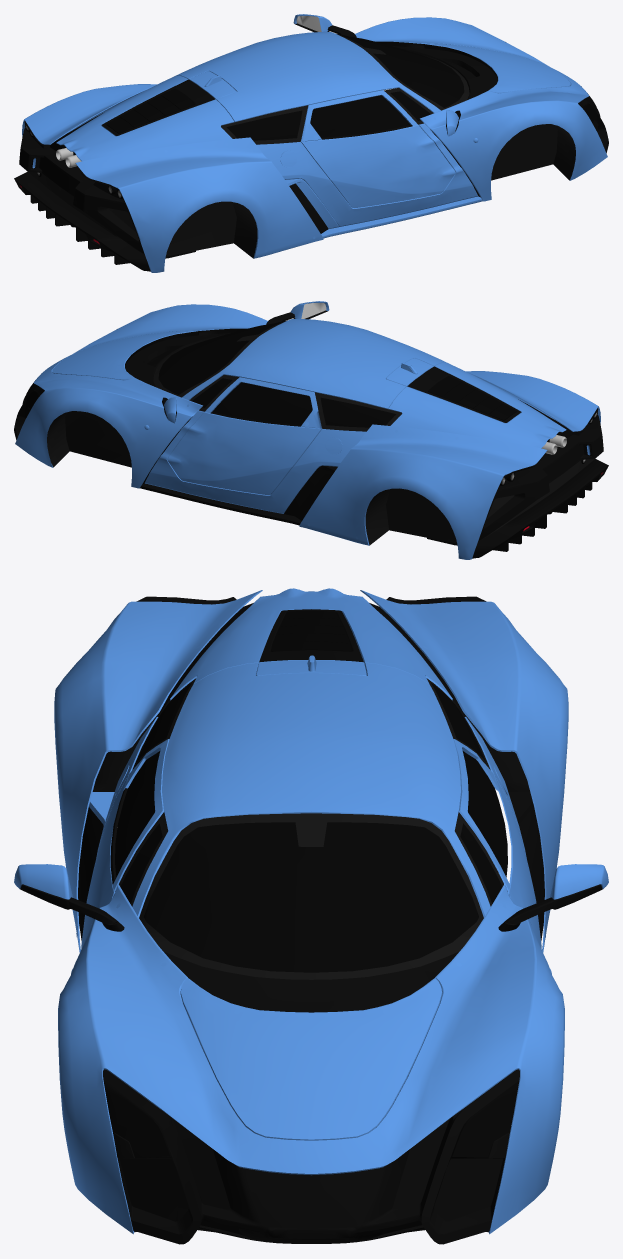
File: MarussiaBody.gltf
3 views of the same model, one above another, from view 1: azimuth 30°, elevation 25°; view 2: azimuth 150°, elevation 25°; view 3: azimuth 270°, elevation 25° (orthographic). The views are drawn at different scales.
Visible parts, largest first — view 1: object.002; view 2: object.002; view 3: object.002.
Part boxes in pixels (box(x1,y1,x2,y2)): object.002: box(14, 14, 608, 272); object.002: box(14, 301, 608, 559); object.002: box(14, 588, 608, 1244).
Size of the model in its own units: 4.97 by 1.17 by 2.47.
14 materials, 1 textured.
